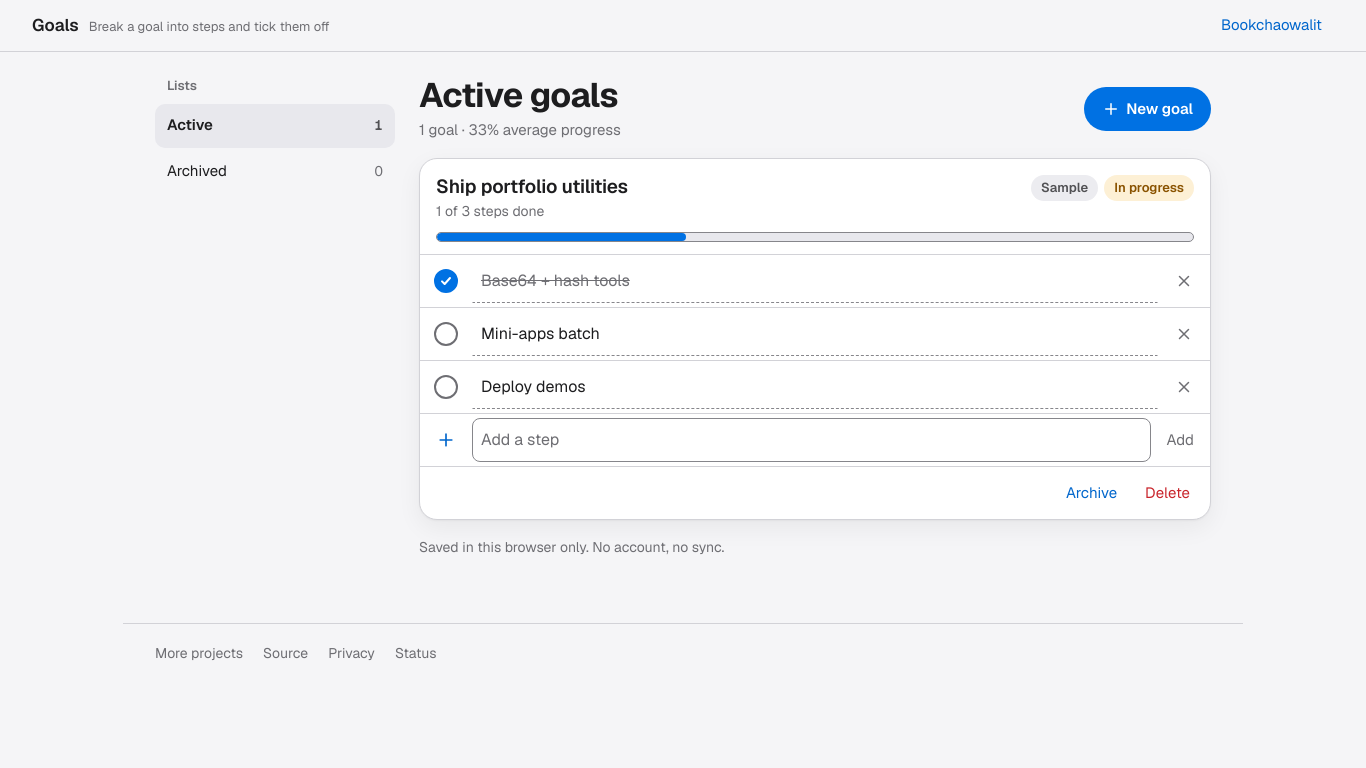
Test: steps › removing a step can be undone in place
Click the button named "Remove step Mini-apps batch".
click(1184, 334)  # box top-left (1162, 312), bottom-right (1206, 356)
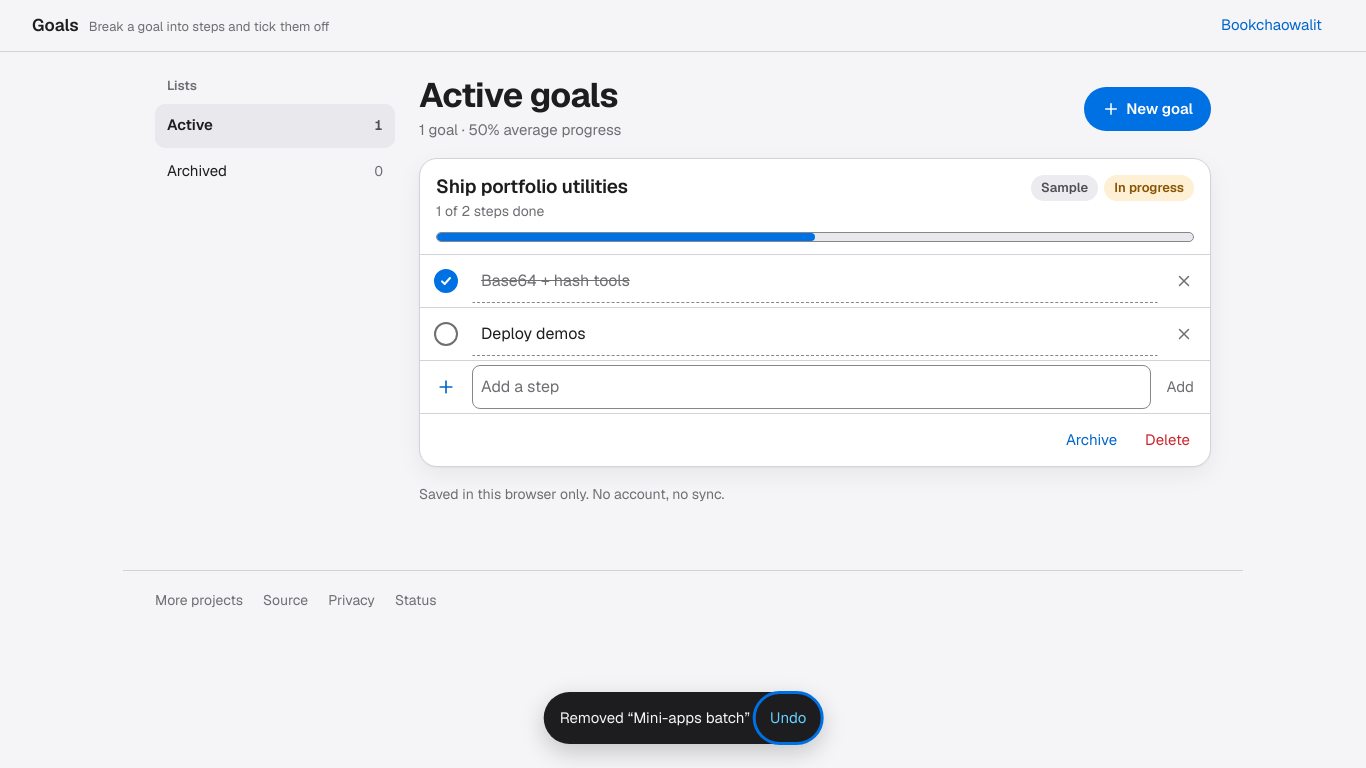
Now the button "Undo" is shown
Now the element with class "as-toast" shows "Removed “Mini-apps batch”", box top-left (560, 708), bottom-right (750, 727)
Click the button "Undo".
click(788, 718)  # box top-left (758, 696), bottom-right (818, 740)
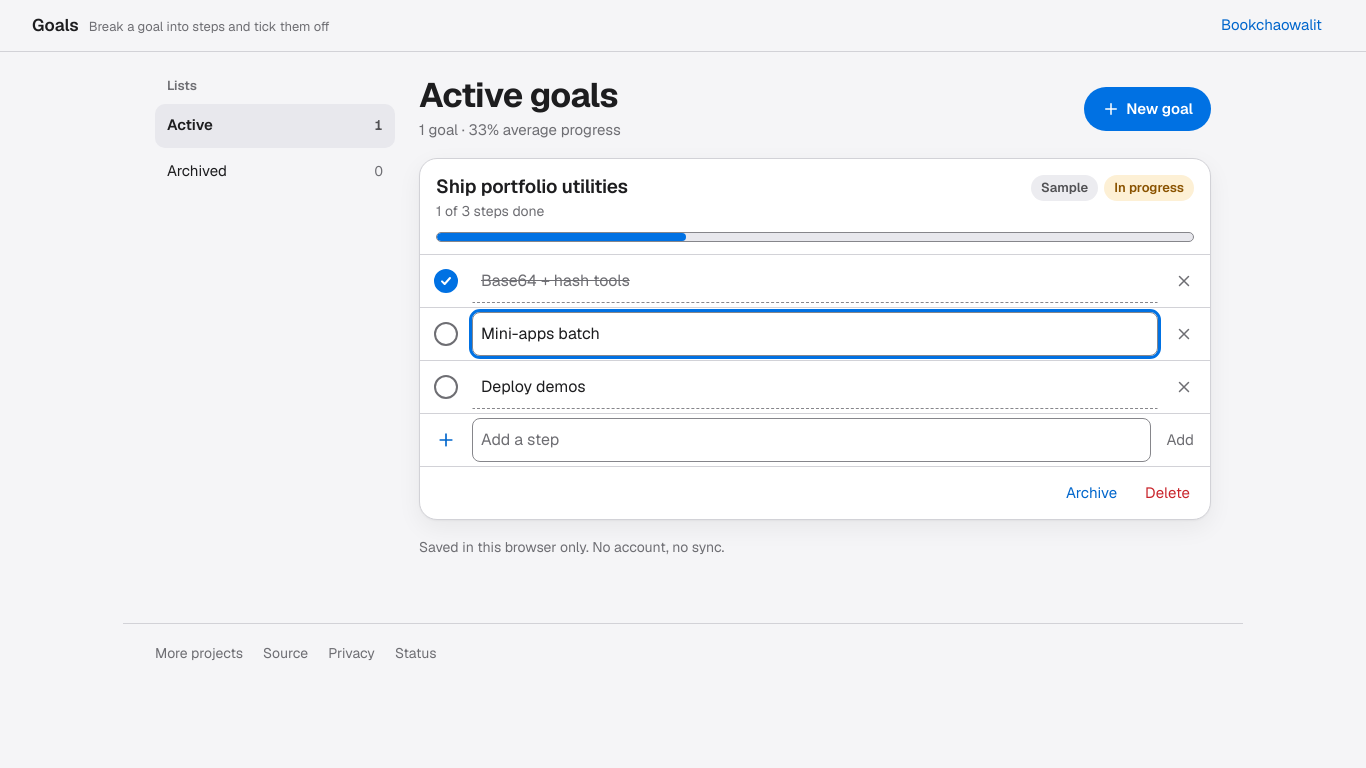
Click the button named "Remove step Base64 + hash tools".
click(1184, 281)  # box top-left (1162, 259), bottom-right (1206, 303)
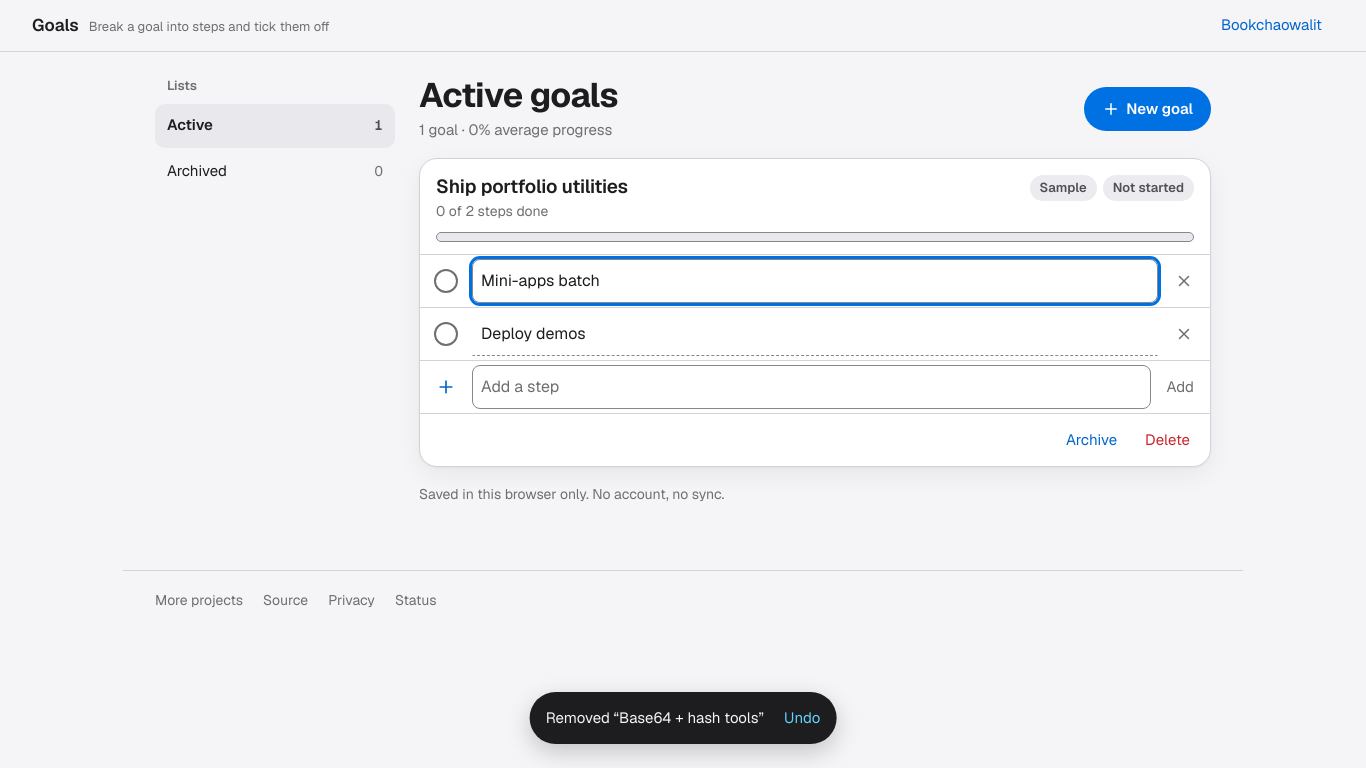
Click the button named "Remove step Mini-apps batch".
click(1184, 281)  # box top-left (1162, 259), bottom-right (1206, 303)
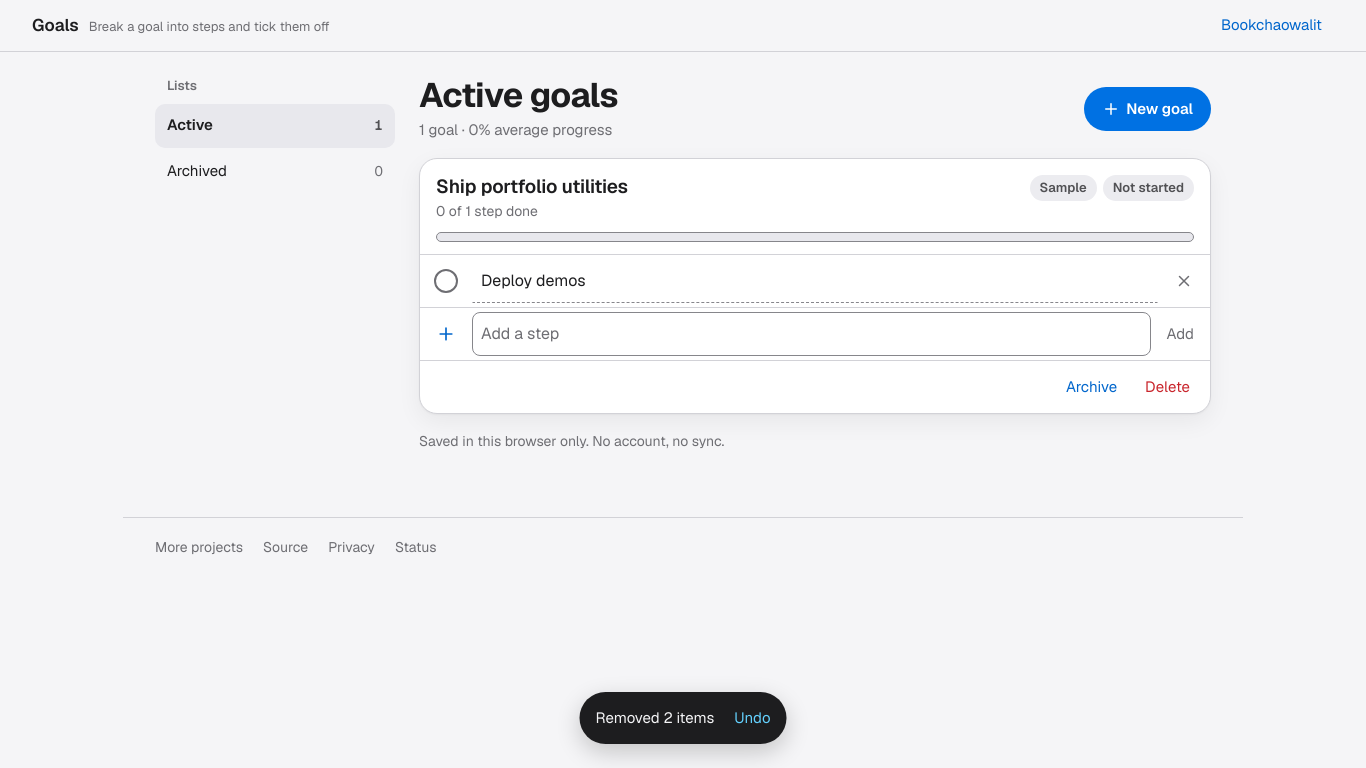
Click the button named "Remove step Deploy demos".
click(1184, 281)  # box top-left (1162, 259), bottom-right (1206, 303)
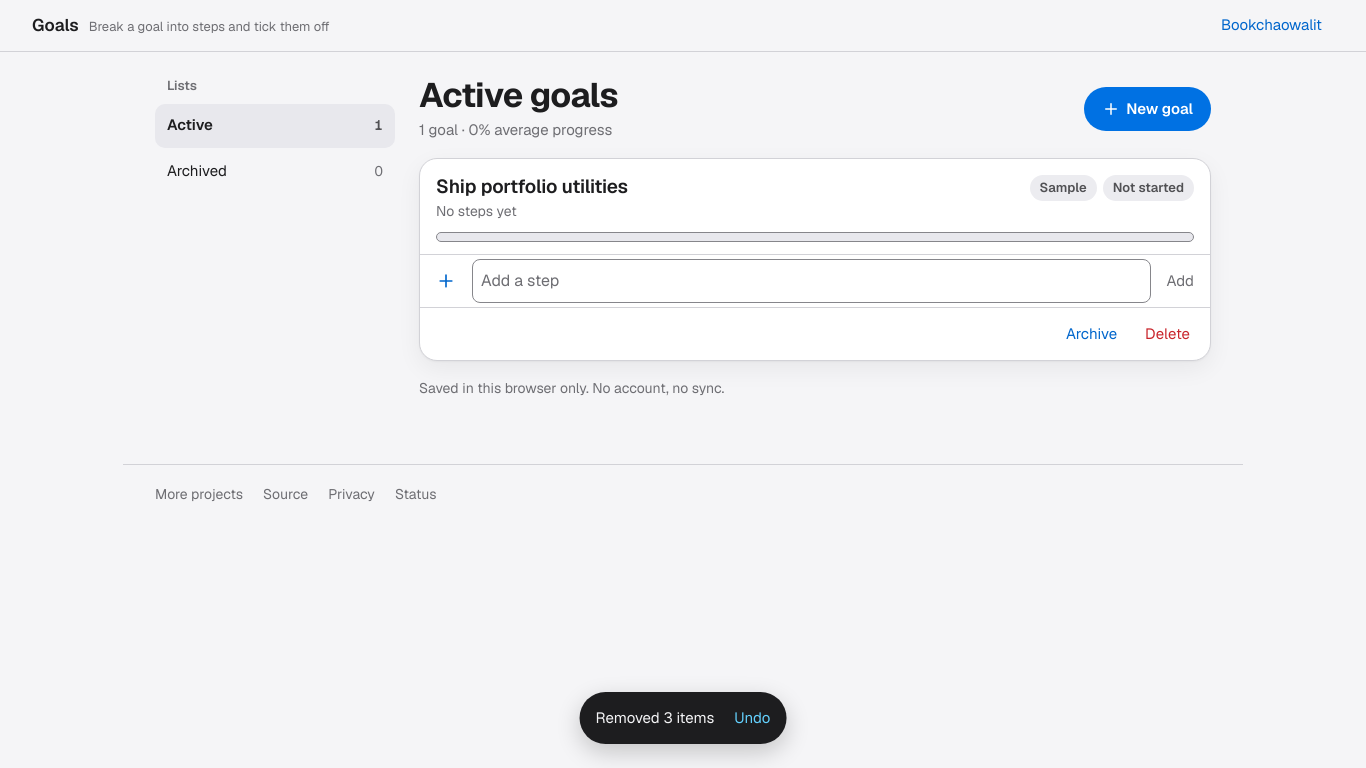
Now the element with class "as-goal" shows "No steps yet", box top-left (436, 202), bottom-right (517, 220)
